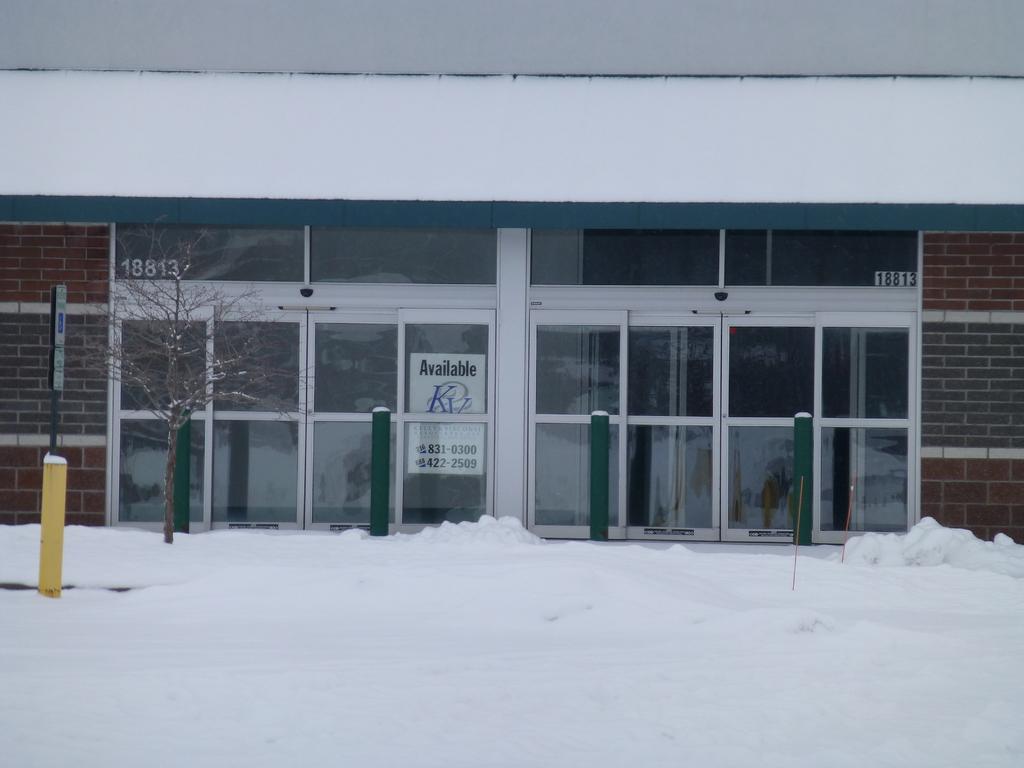door: (721, 327, 813, 548), (630, 315, 718, 544), (310, 316, 398, 535), (216, 318, 306, 530)
